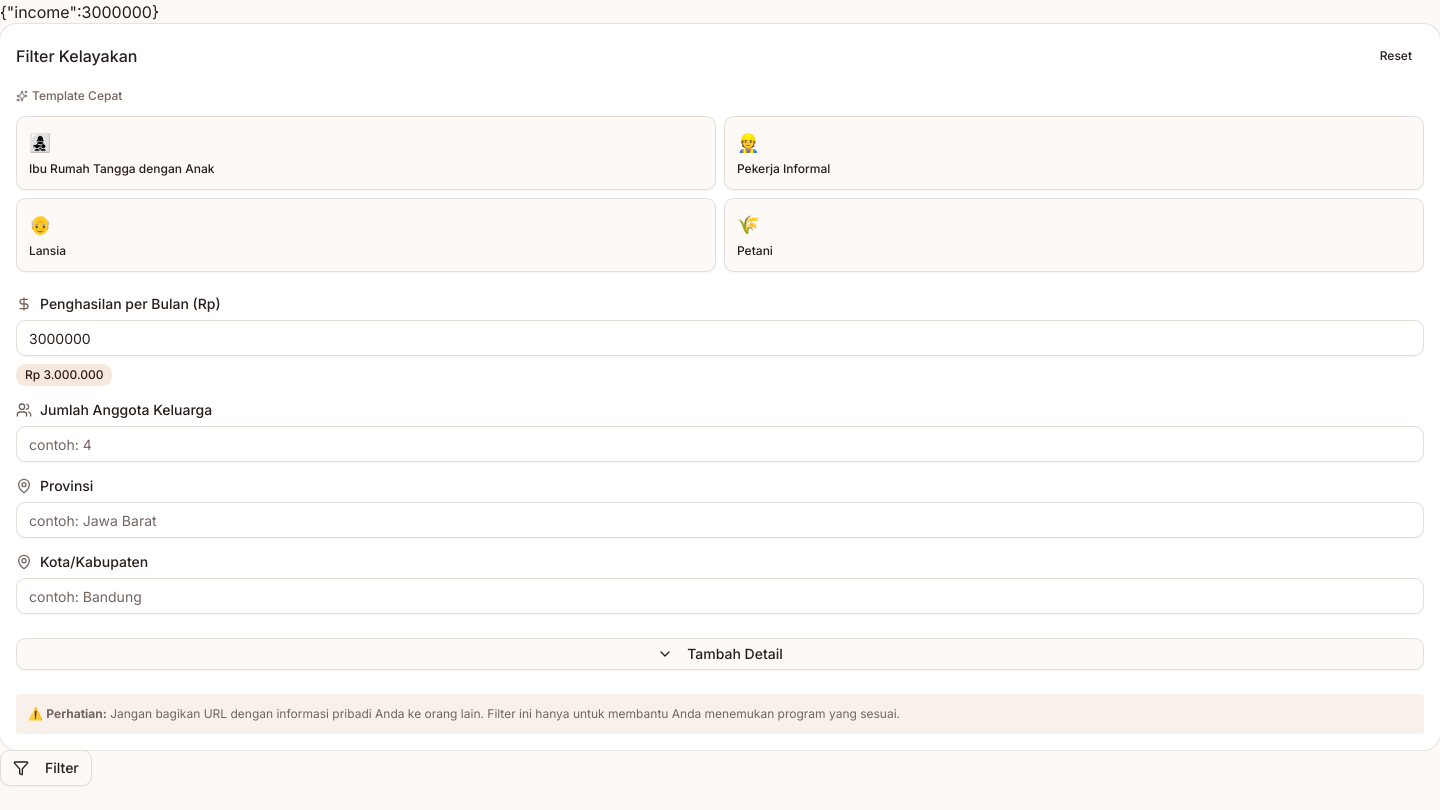
Test: Filter State Synchronization › Requirement 1.3: Filter state shared between sidebar and modal via UserContext › both sidebar and modal read from same UserContext
Note: Update in sidebar
Replace the text in the number field labelled "Penghasilan per Bulan (Rp)" with "1500000": (720, 338) top-left (16, 320), bottom-right (1424, 356)
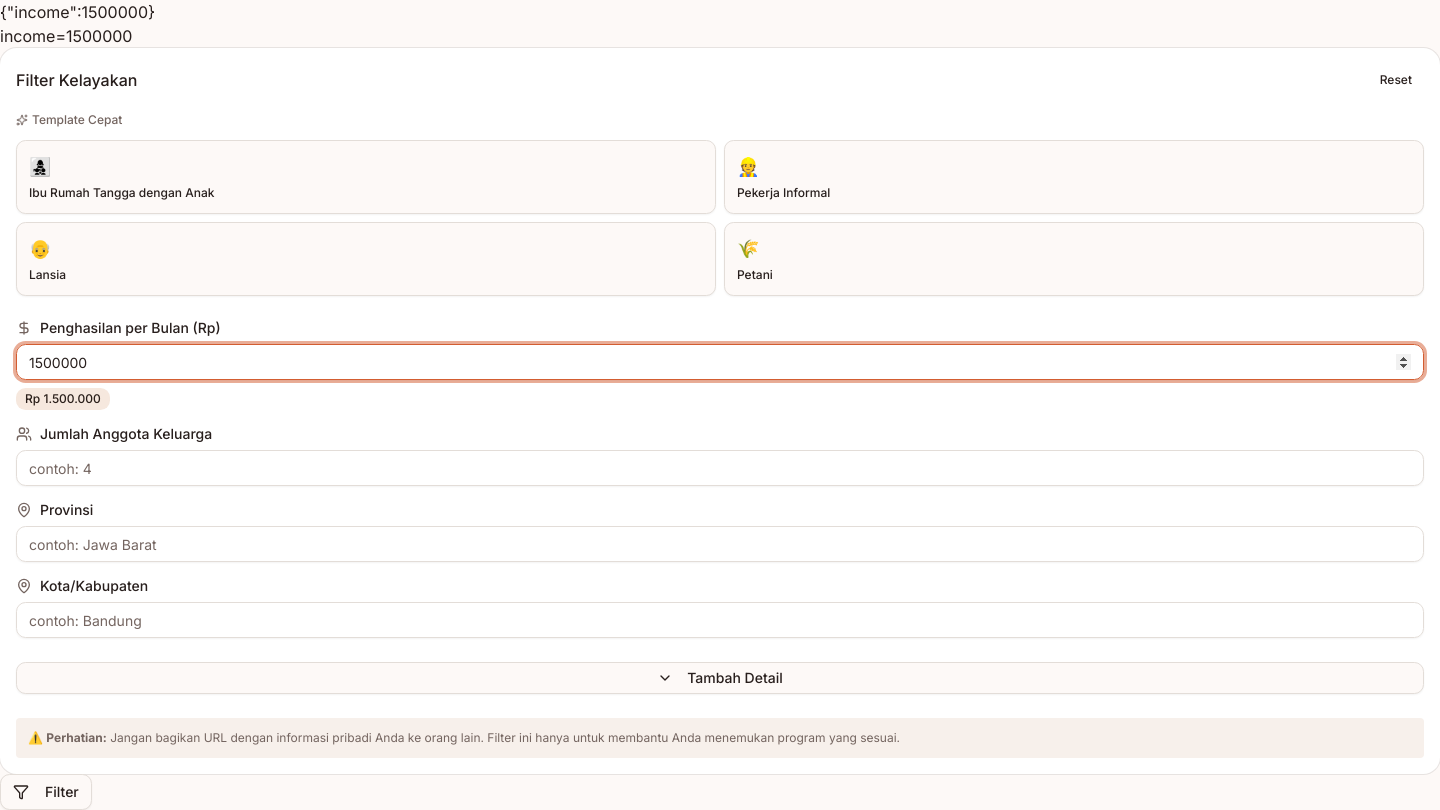
Note: Open modal
Click the button with aria-label "Buka filter kelayakan": (46, 792) top-left (0, 774), bottom-right (92, 809)
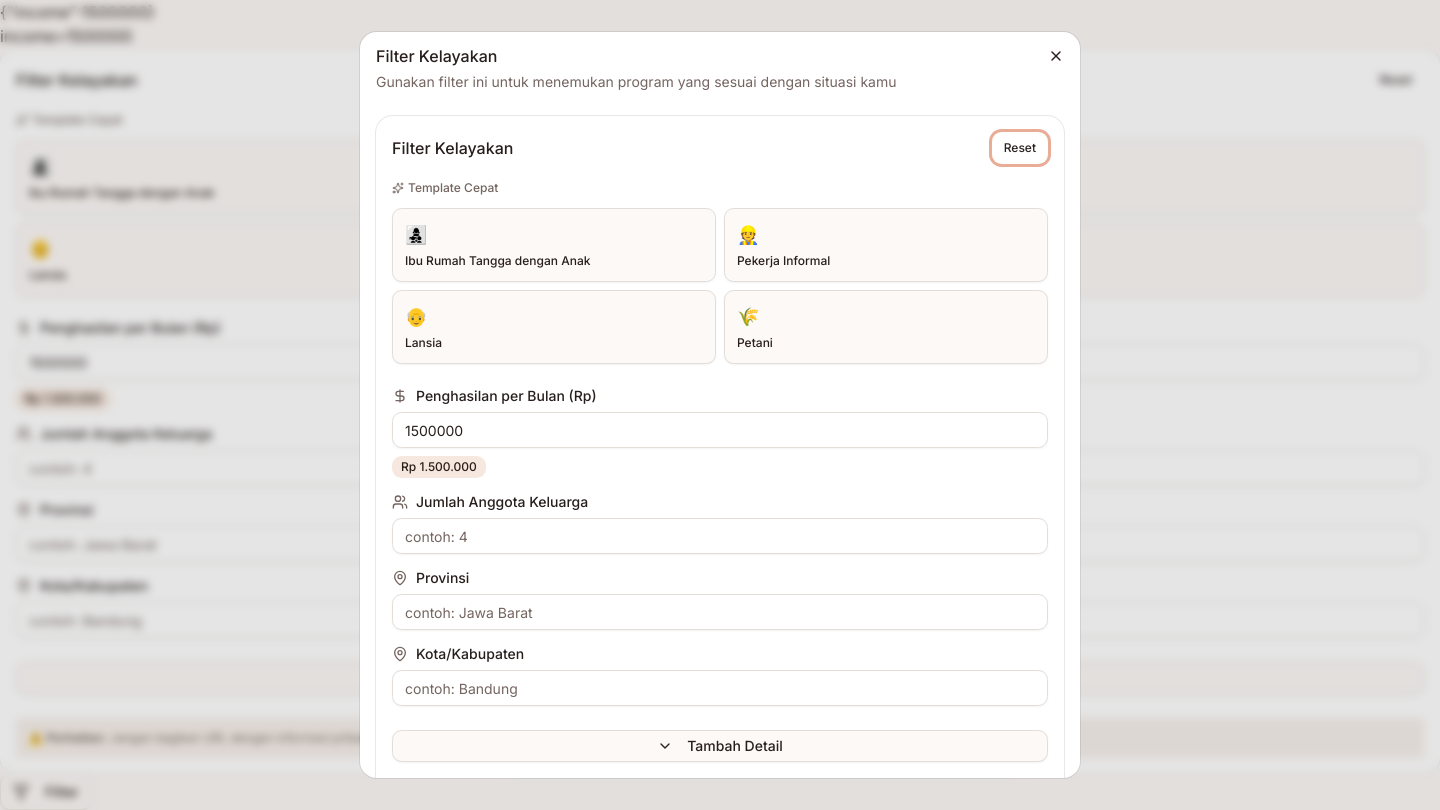
Expected: the dialog is shown, top-left (360, 32), bottom-right (1080, 778)
